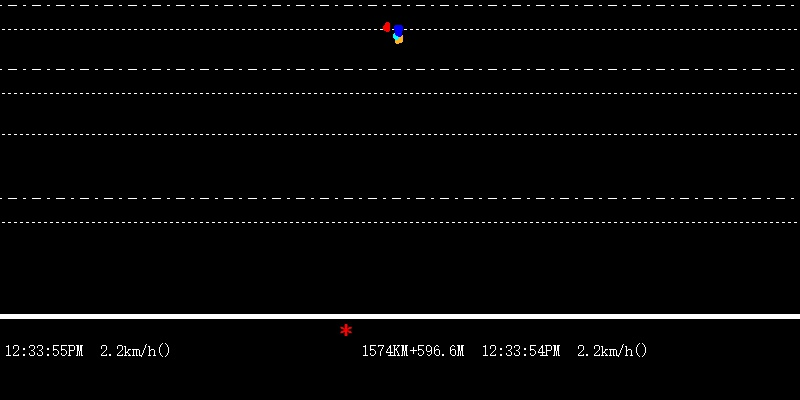face_1: (382, 18, 390, 35)
face_s: (393, 22, 404, 46)
star: (336, 320, 354, 339)
